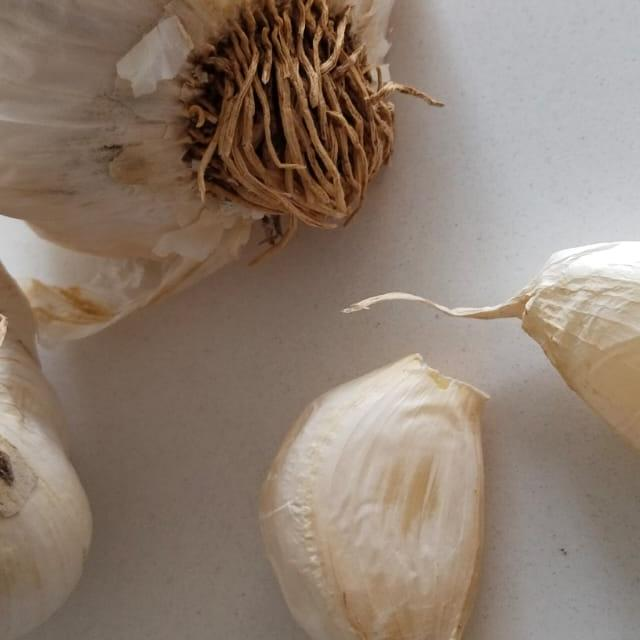garlic: (0, 0, 468, 298), (189, 333, 581, 640), (489, 211, 640, 578)
